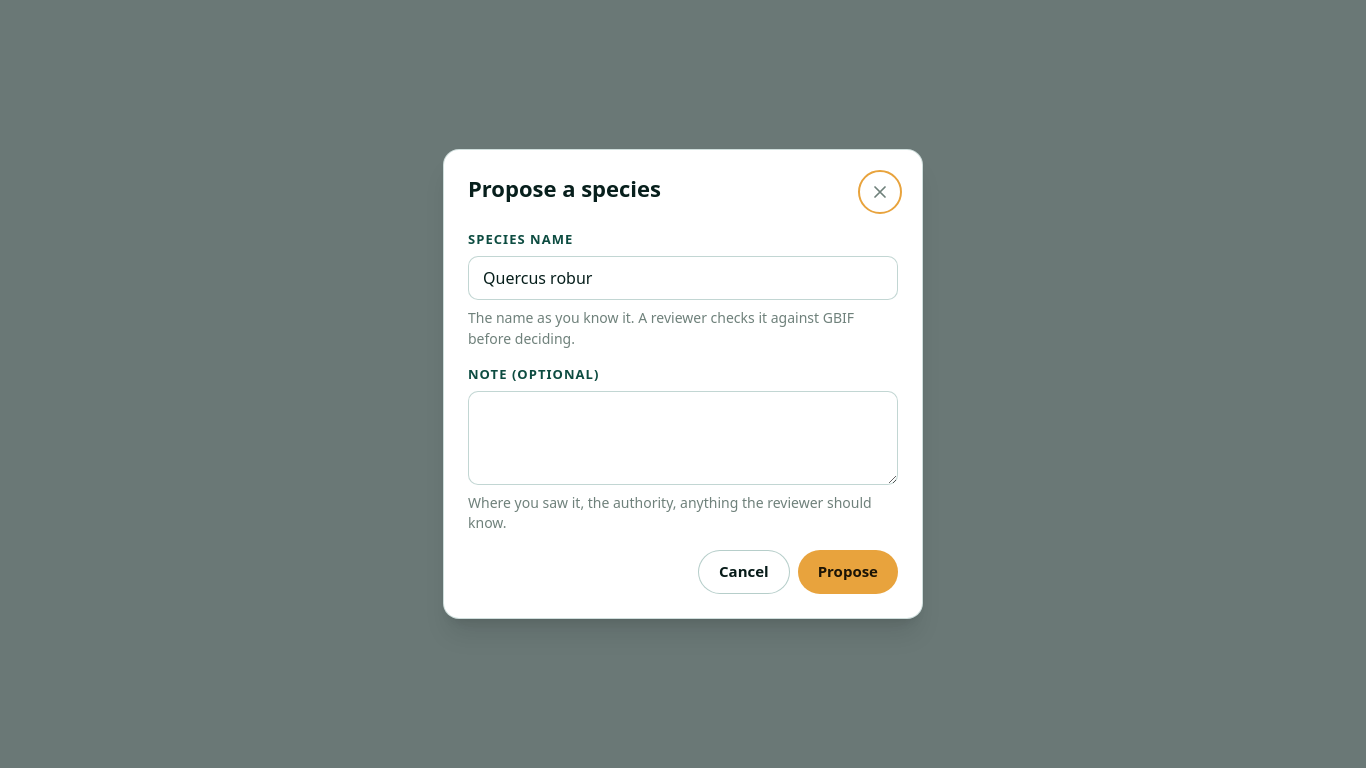
RFC-75 R2 ProposeSpeciesDialog › RFC-75 R2 PROPOSAL_EXISTS reads "Already proposed"
Click the button "Propose".
click(848, 572)  # box [798,550,898,594]
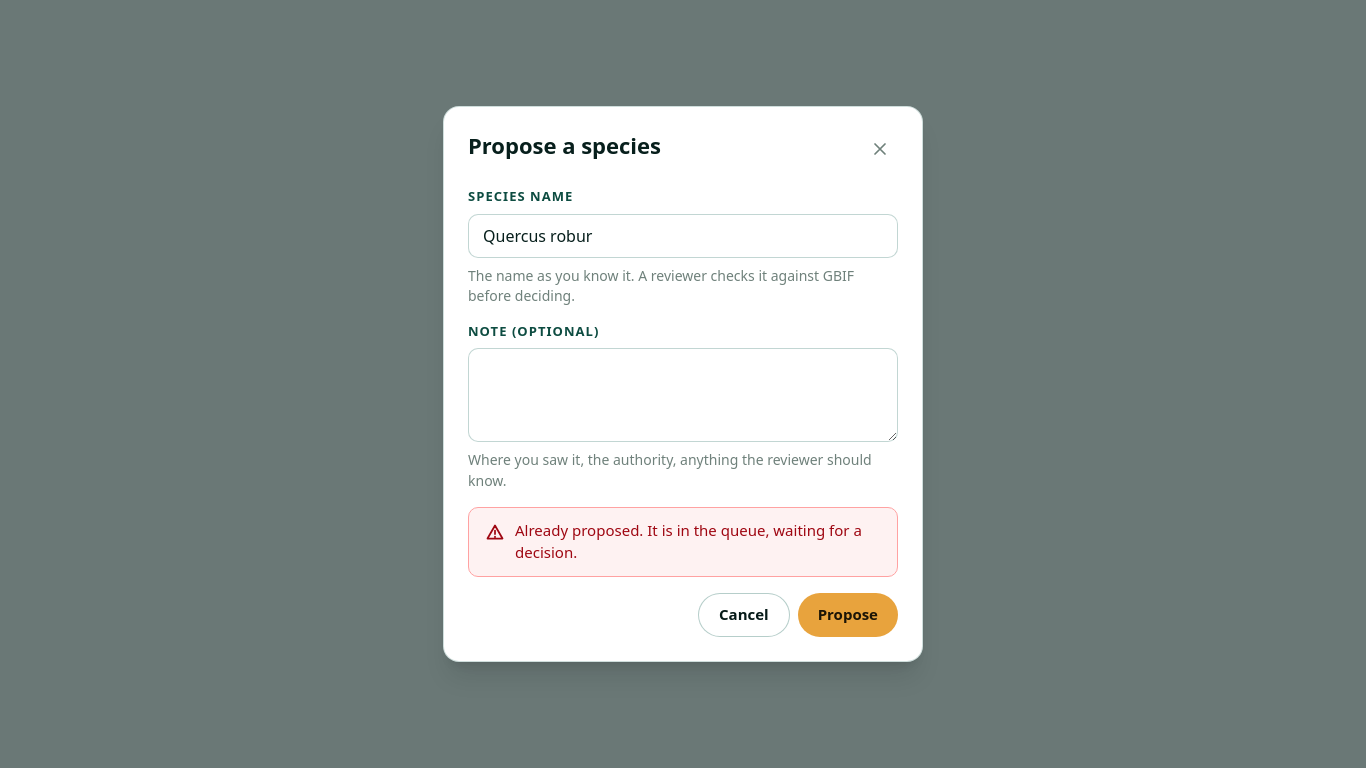
Expected: the message shows "Already proposed.", [515,520,862,562]
